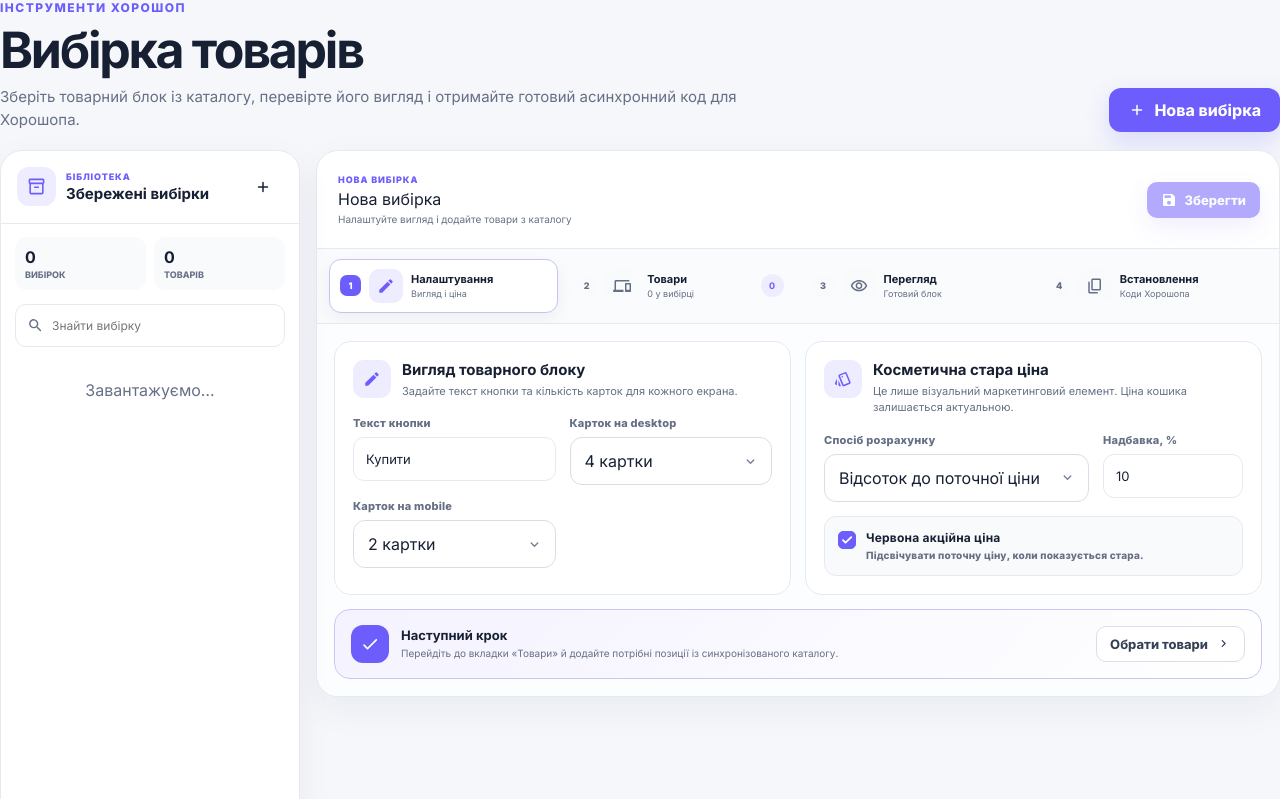
Test: ProductSelectionPage editor layout › separates the builder into readable workflow tabs
The width and height of the screenshot is (1280, 799).
expect the heading "Вигляд товарного блоку" is shown: met, box [402,360,585,378]
expect the text "Каталог Хорошопа" is not shown: met
What coordinates should you click on to do the following:
click the button "2 Товари 0 у вибірці 0"
I would click on:
 (680, 286)
Its box is [565,258,795,312].
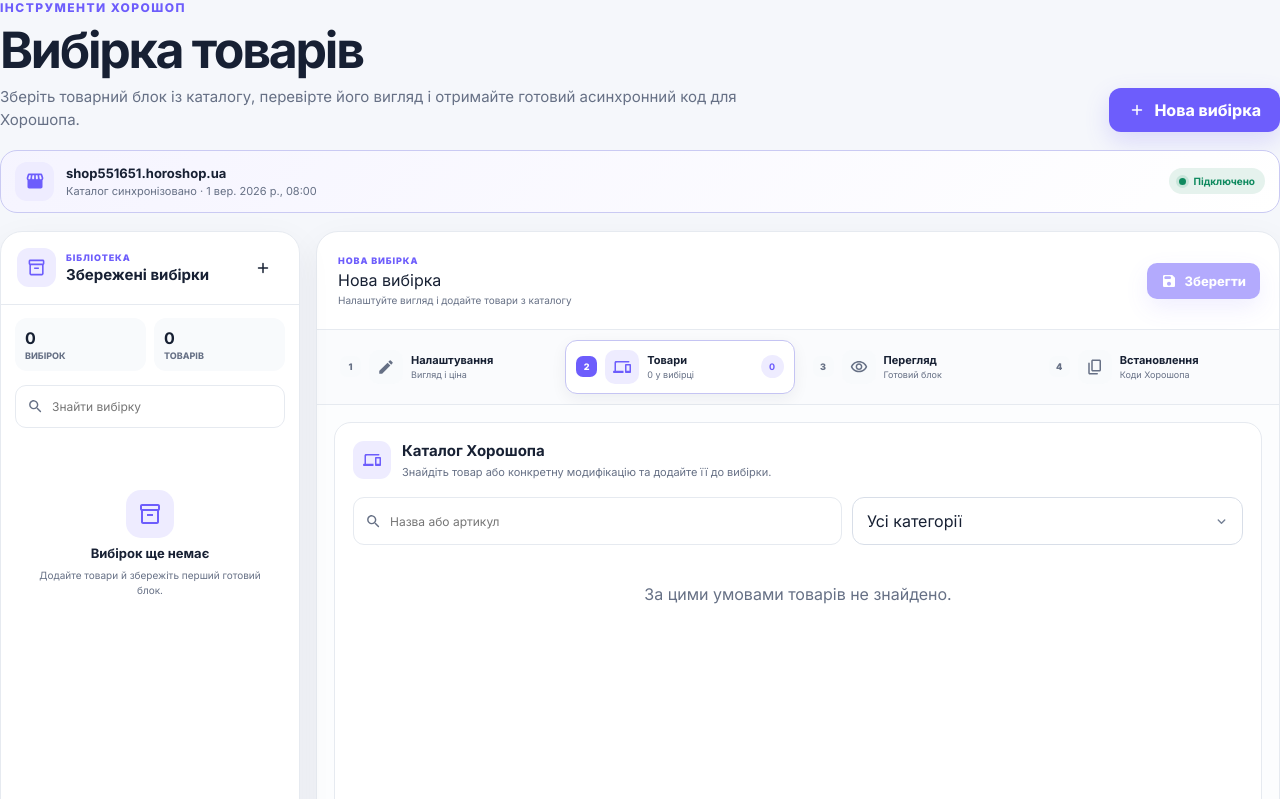
expect the heading "Каталог Хорошопа" is shown: met, box [402,440,545,460]
What coordinates should you click on to do the following:
click the button "3 Перегляд Готовий блок"
I would click on:
 (916, 366)
Its box is [802,340,1031,394].
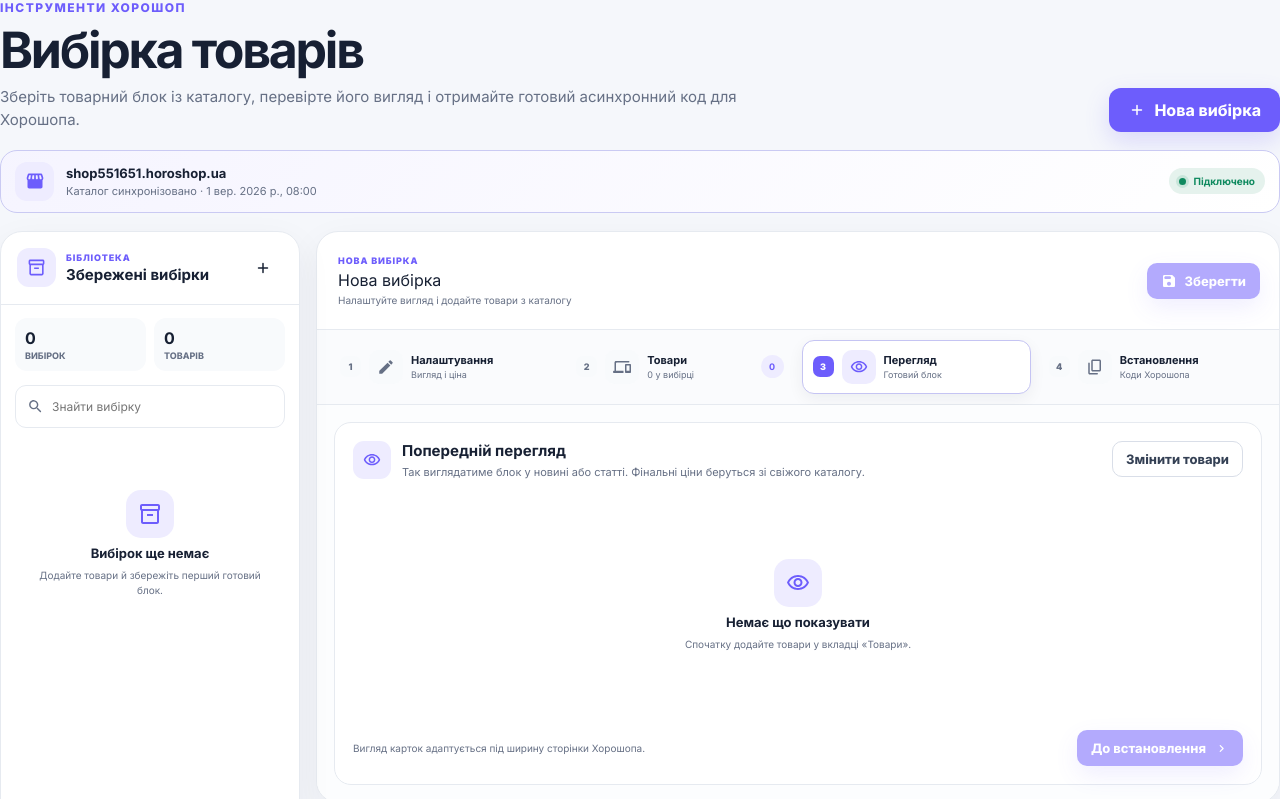
expect the text "Немає що показувати" is shown: met, box [726,614,870,630]
What coordinates should you click on to do the following:
click the button "4 Встановлення Коди Хорошопа"
I would click on:
 (1152, 366)
Its box is [1038,340,1267,394].
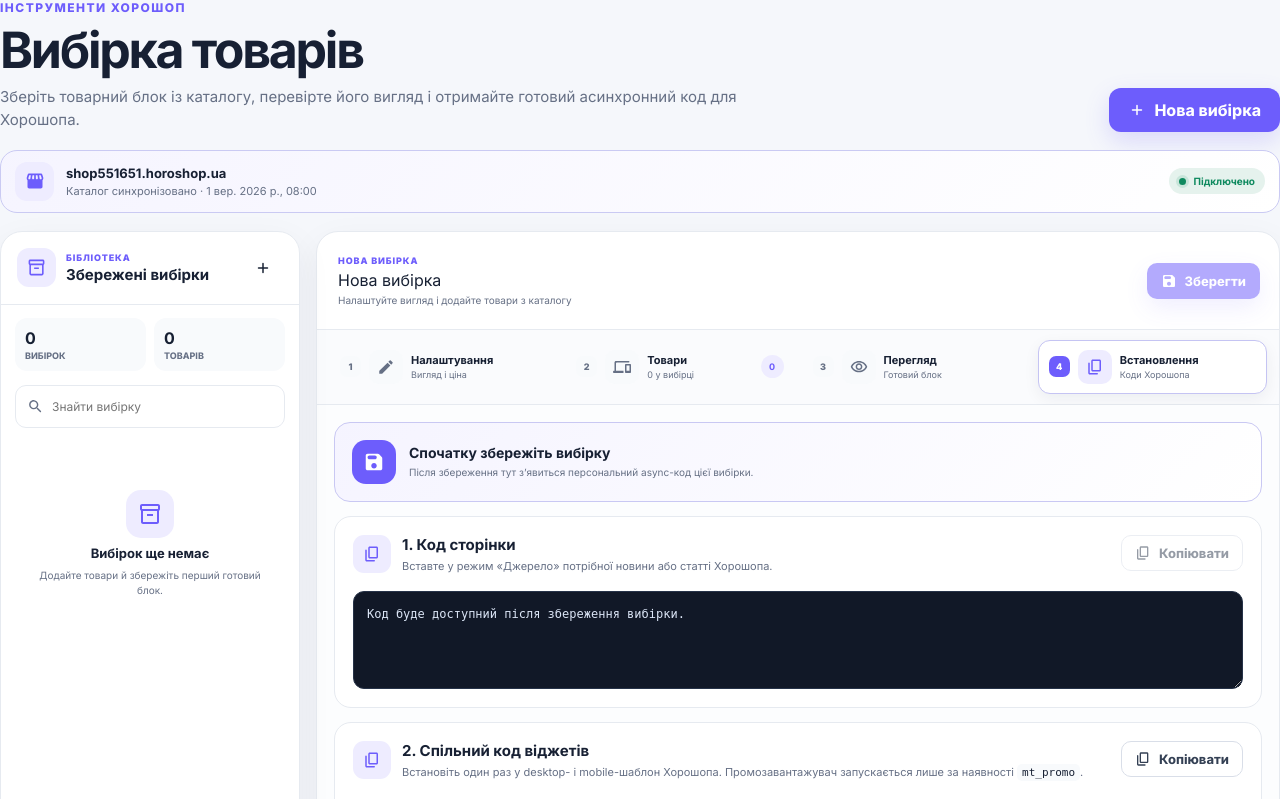
expect the text "Спочатку збережіть вибірку" is shown: met, box [409,444,610,460]
expect the heading "1. Код сторінки" is shown: met, box [402,534,516,554]
expect the heading "2. Спільний код віджетів" is shown: met, box [402,741,589,760]
